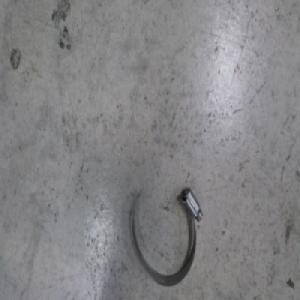AdjustableClamp: (128, 187, 202, 287)
